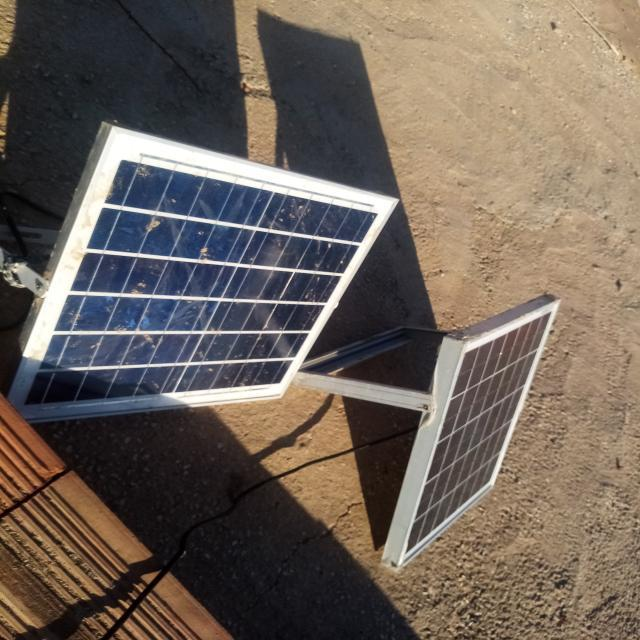faulty: (7, 130, 398, 421)
no faulty: (400, 298, 560, 567)
